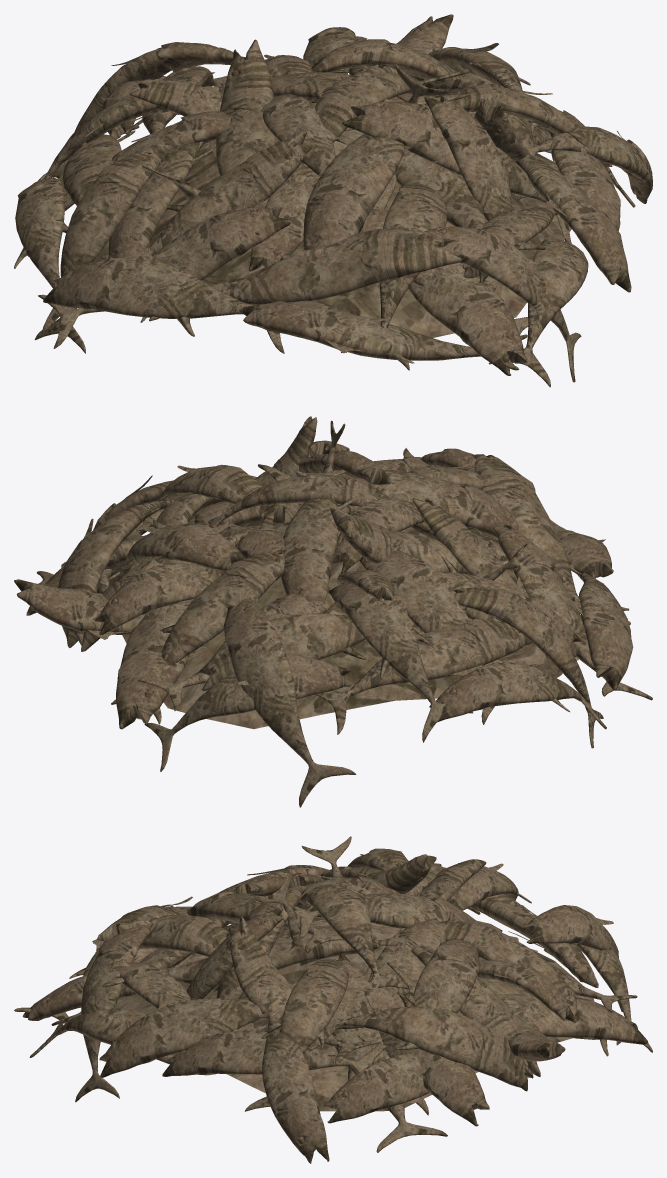
The model's file is Fish_Pile03.fbx.
3 views of the same model, one above another, from view 1: azimuth 30°, elevation 25°; view 2: azimuth 150°, elevation 25°; view 3: azimuth 270°, elevation 25° (orthographic). The views are drawn at different scales.
Visible parts, largest first — view 1: Fish_Pile03; view 2: Fish_Pile03; view 3: Fish_Pile03.
Part boxes in pixels (x1,y1,x2,y2): Fish_Pile03: (14, 14, 652, 387); Fish_Pile03: (14, 416, 652, 807); Fish_Pile03: (14, 836, 652, 1163).
Bounding box in the file's own units: 261 × 98.23 × 268.
